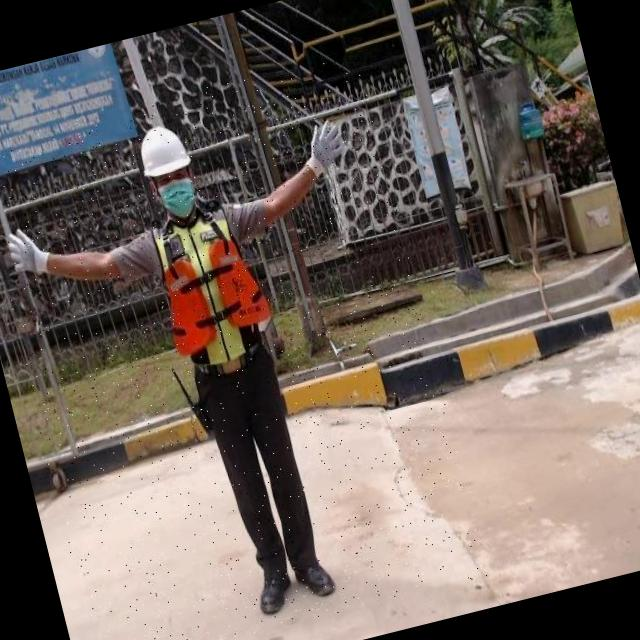boots: (286, 543, 340, 608), (248, 555, 300, 620)
gloves: (0, 220, 54, 285)
vest: (144, 194, 279, 374)
